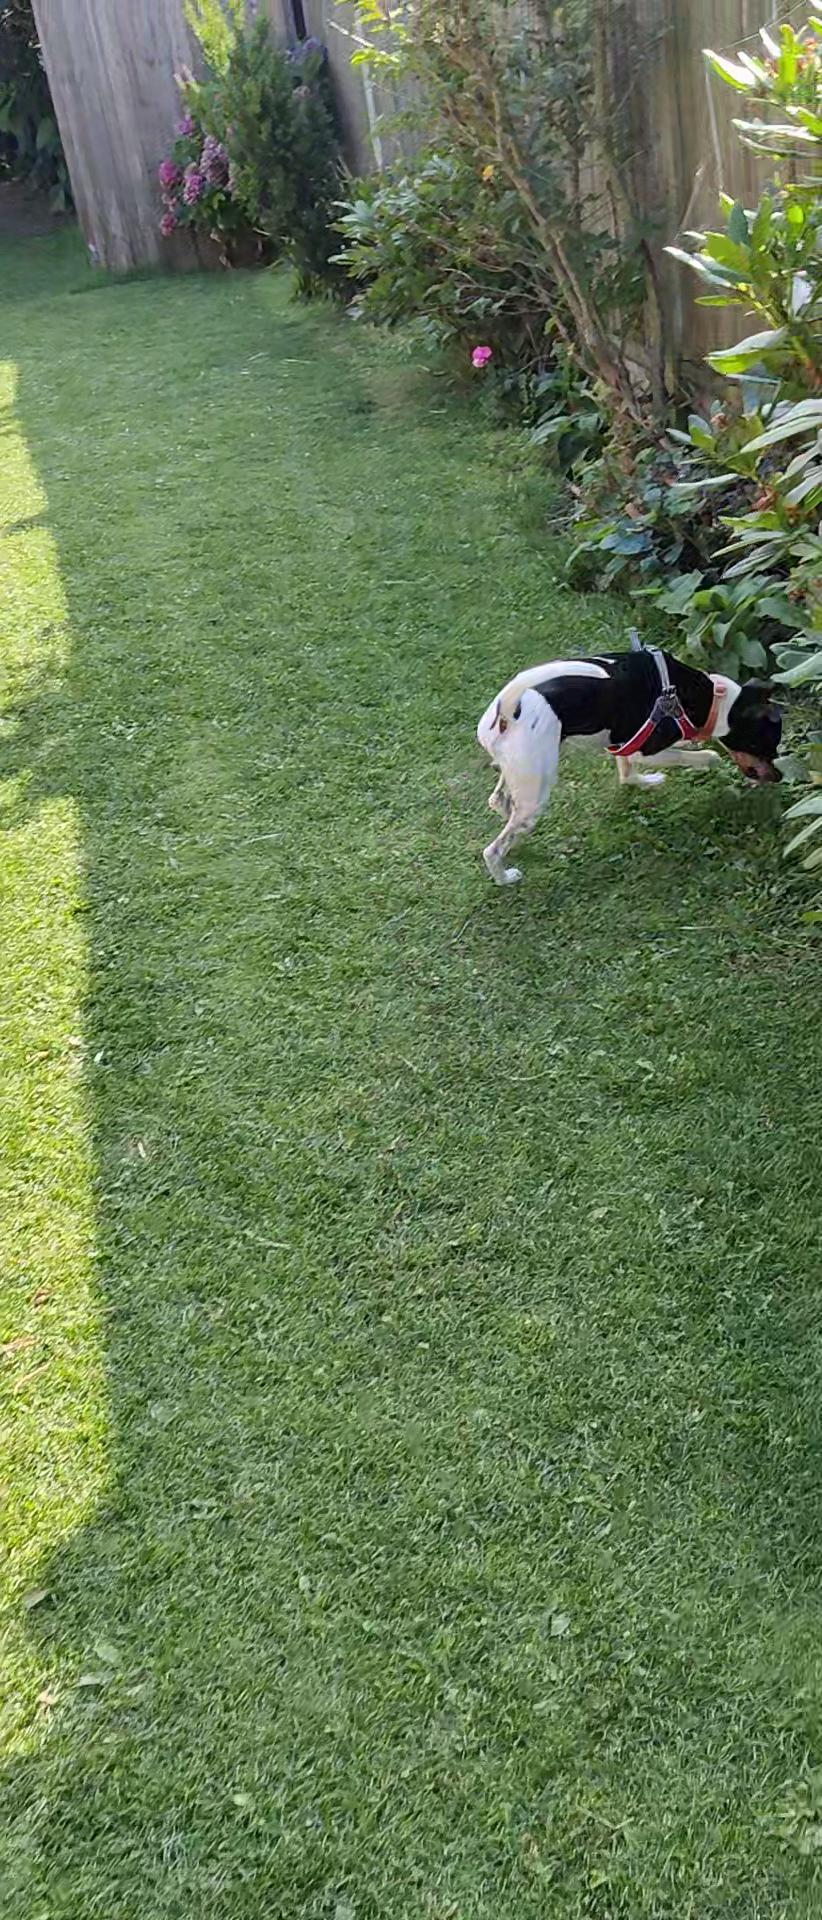Dog: (462, 639, 802, 891)
